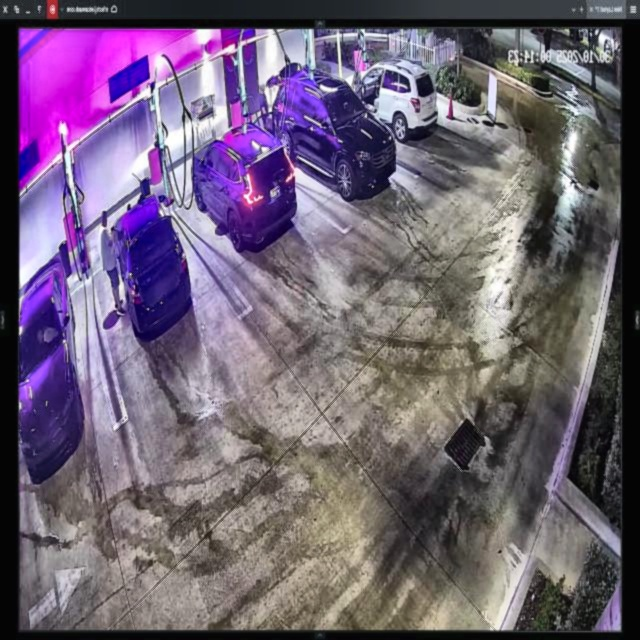Car: (272, 69, 395, 191), (192, 124, 294, 251), (112, 199, 191, 340)
